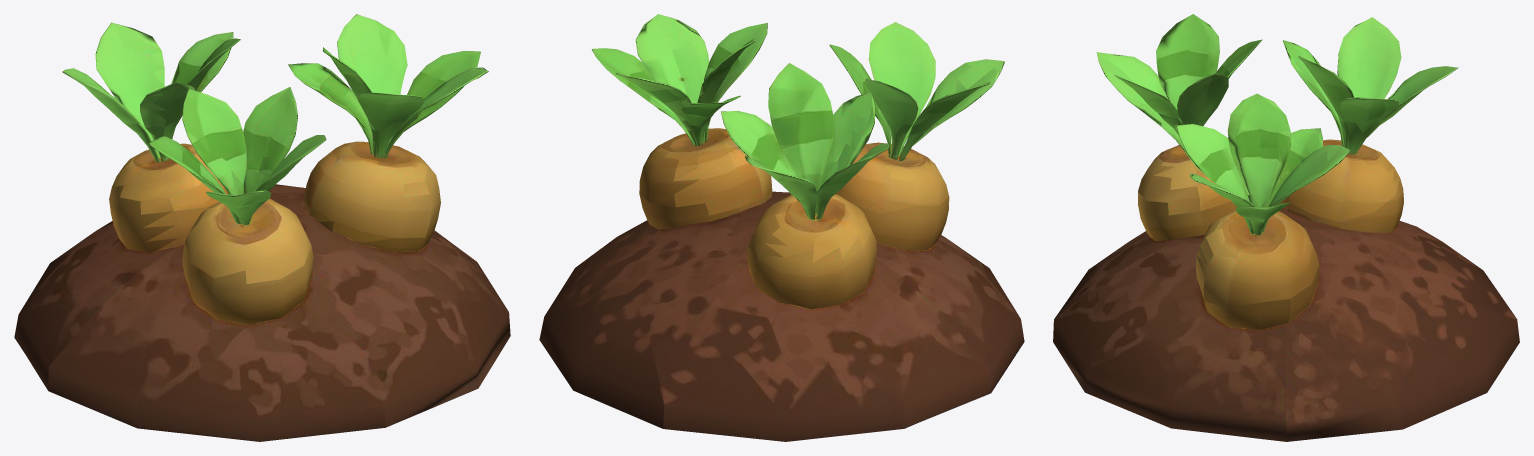
File: earth_apple.glb
3 views of the same model, side by side, from view 1: azimuth 30°, elevation 25°; view 2: azimuth 150°, elevation 25°; view 3: azimuth 270°, elevation 25° (orthographic). The views are drawn at different scales.
Visible parts, largest first — view 1: mesh_node; view 2: mesh_node; view 3: mesh_node.
Boxes of the visible parts, bbox=[...] form: mesh_node: bbox=[14, 14, 510, 441]; mesh_node: bbox=[539, 14, 1024, 441]; mesh_node: bbox=[1053, 14, 1519, 441].
Bounding box in the file's own units: 1 × 0.6621 × 1.
1 material, 1 textured.
